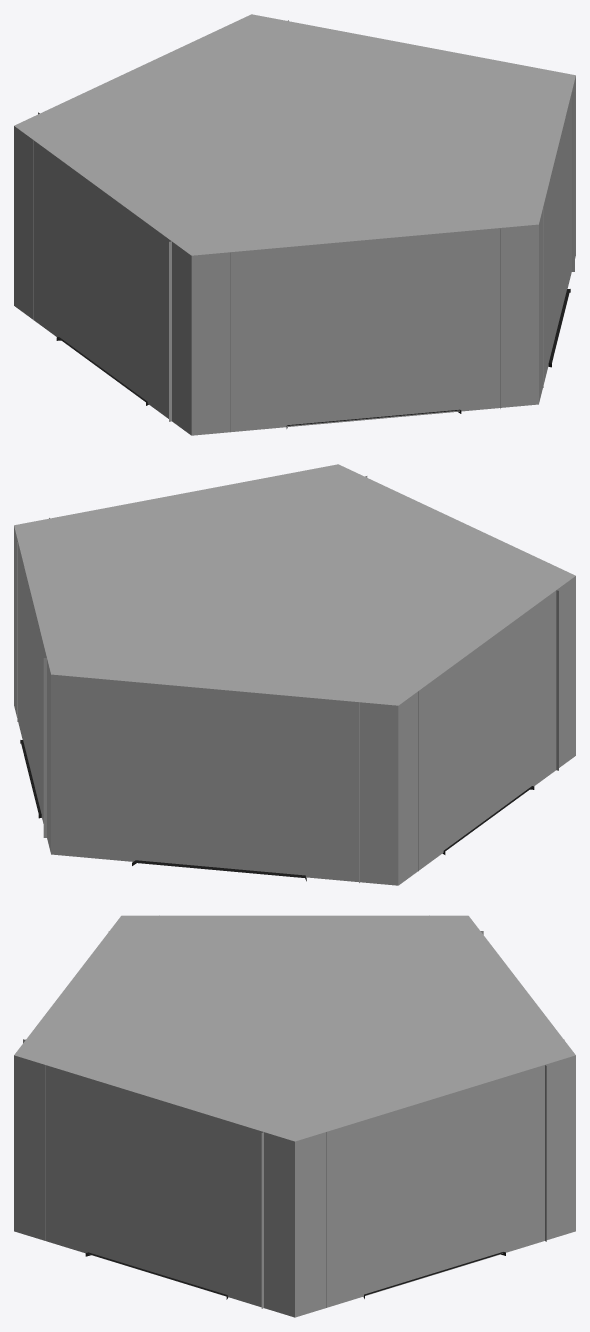
Rendered from myoProjectTable.fbx.
3 renders of one model, top to bottom at view 1: azimuth 30°, elevation 25°; view 2: azimuth 150°, elevation 25°; view 3: azimuth 270°, elevation 25°, orthographic. The views are drawn at different scales.
Parts seen in each view (by area): view 1: walls, roof, lamps; view 2: walls, roof, lamps, polySurface1; view 3: walls, roof, lamps.
Boxes of the visible parts, x1,y1,x2,y2 form: walls: [14, 76, 575, 435]; roof: [14, 14, 575, 255]; lamps: [33, 20, 574, 431]; walls: [14, 526, 575, 885]; roof: [14, 464, 575, 705]; lamps: [17, 476, 558, 882]; polySurface1: [132, 860, 306, 881]; walls: [14, 1055, 575, 1317]; roof: [14, 915, 575, 1141]; lamps: [23, 931, 564, 1308].
Bounding box in the file's own units: 13.84 × 6.2 × 14.46.
